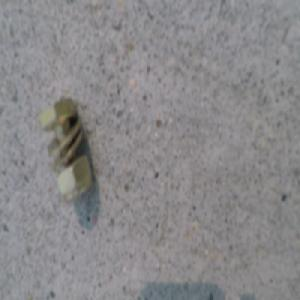BoltNutSet: (52, 101, 102, 205)
